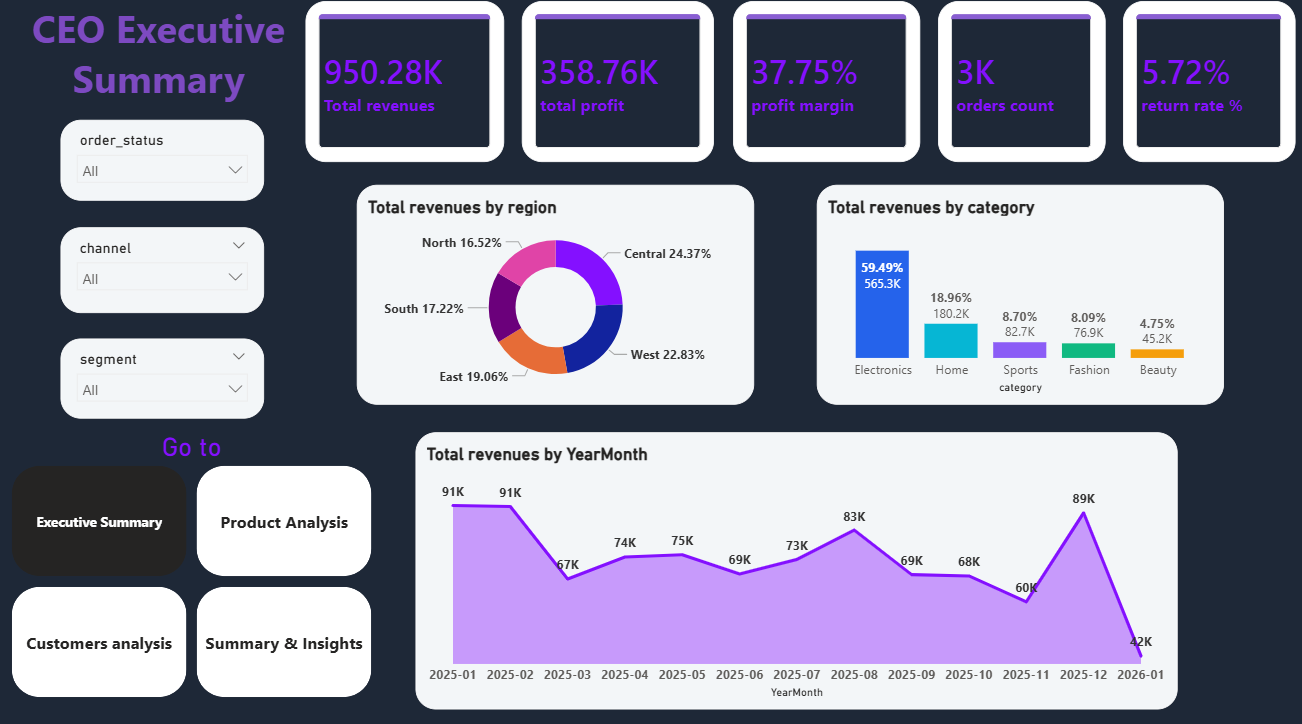

This screenshot's page, from the dashboard's own definition file:
{"tool":"powerbi","page":{"name":"Executive Summary","canvas":[1280,720],"ordinal":0},"visuals":[{"type":"cardVisual","fields":{"Data":["Measures_table.Total revenues"]},"box":[300.8,9.8,194.4,157.7],"z":0},{"type":"cardVisual","fields":{"Data":["Measures_table.profit margin"]},"box":[718.4,9.8,183.4,157.7],"z":1000},{"type":"cardVisual","fields":{"Data":["Measures_table.return rate %"]},"box":[1100.5,9.8,168.8,157.7],"z":2000},{"type":"cardVisual","fields":{"Data":["Measures_table.total profit"]},"box":[512.7,9.8,188.3,157.7],"z":3000},{"type":"cardVisual","fields":{"Data":["Measures_table.orders count"]},"box":[919.3,9.8,163.9,157.7],"z":4000},{"type":"lineChart","fields":{"Category":["Calendar.YearMonth"],"Y":["Measures_table.Total revenues"]},"box":[408.4,431.7,745.9,271.5],"z":5000},{"type":"clusteredColumnChart","title":"Total revenues by category","fields":{"Y":["Measures_table.Total revenues"],"Category":["Product cleaned.category"]},"box":[801,189.5,398.6,215.2],"z":6000},{"type":"slicer","fields":{"Values":["Order cleaned.order_status"]},"box":[60.7,126.2,199.3,79.5],"z":7000},{"type":"slicer","fields":{"Values":["Order cleaned.channel"]},"box":[60.7,230.7,199.3,84.4],"z":8000},{"type":"slicer","fields":{"Values":["Customers cleaned.segment"]},"box":[60.7,340.2,199.3,78.3],"z":9000},{"type":"textbox","box":[0,0,314.3,130.8],"z":10000},{"type":"donutChart","fields":{"Y":["Measures_table.Total revenues"],"Category":["Customers cleaned.region"]},"box":[351,189.5,388.9,215.2],"z":11000},{"type":"pageNavigator","title":"Go to ","box":[13.5,431.7,352.2,260.5],"z":12000}]}

Visuals, with their boxes in screenshot pixels (x1, y1, x2, y2), scaled from the page's 1280x720 canvas onto the 1302x724 screenshot:
cardVisual - Measures_table.Total revenues: 306, 10, 504, 168
cardVisual - Measures_table.profit margin: 731, 10, 917, 168
cardVisual - Measures_table.return rate %: 1119, 10, 1291, 168
cardVisual - Measures_table.total profit: 522, 10, 713, 168
cardVisual - Measures_table.orders count: 935, 10, 1102, 168
lineChart - Calendar.YearMonth x Measures_table.Total revenues: 415, 434, 1174, 707
"Total revenues by category" clusteredColumnChart: 815, 191, 1220, 407
slicer - Order cleaned.order_status: 62, 127, 264, 207
slicer - Order cleaned.channel: 62, 232, 264, 317
slicer - Customers cleaned.segment: 62, 342, 264, 421
textbox: 0, 0, 320, 132
donutChart - Measures_table.Total revenues x Customers cleaned.region: 357, 191, 753, 407
"Go to " pageNavigator: 14, 434, 372, 696
